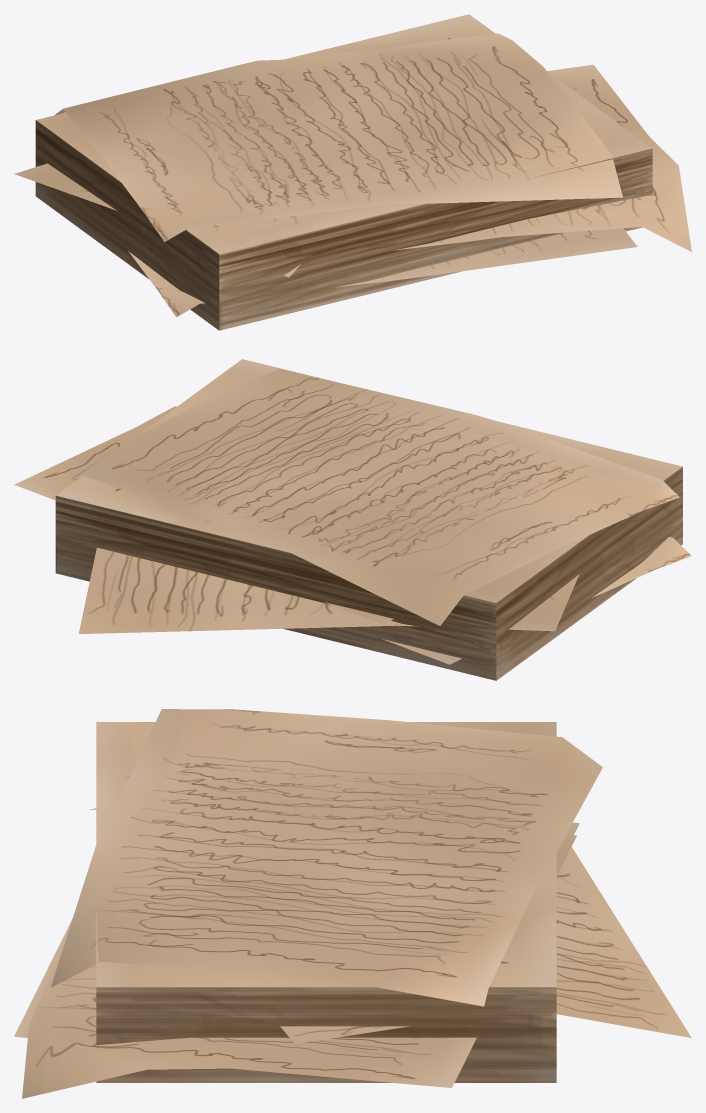
File: paperstack.FBX
The picture shows the model from 3 angles, top to bottom: view 1: azimuth 30°, elevation 25°; view 2: azimuth 150°, elevation 25°; view 3: azimuth 270°, elevation 25°; orthographic projection. The views are drawn at different scales.
Parts seen in each view (by area): view 1: Box001; view 2: Box001; view 3: Box001.
Part boxes in pixels (<box>): Box001: <box>14,14,691,330</box>; Box001: <box>14,359,691,680</box>; Box001: <box>14,709,691,1098</box>.
Bounding box in the file's own units: 50.36 × 7.98 × 42.42.
